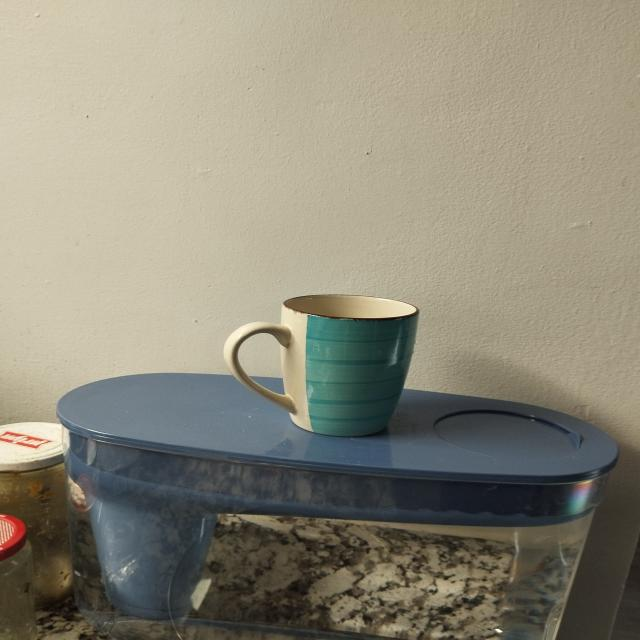Cup: (207, 259, 447, 449)
